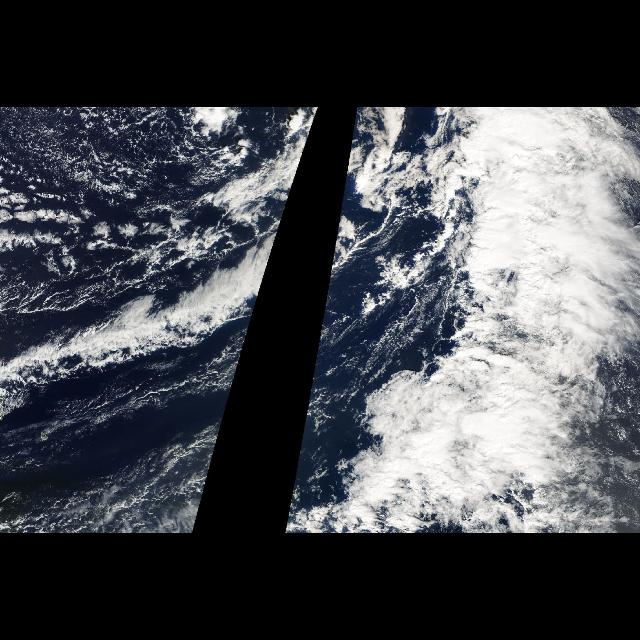Gravel: (0, 110, 234, 288)
